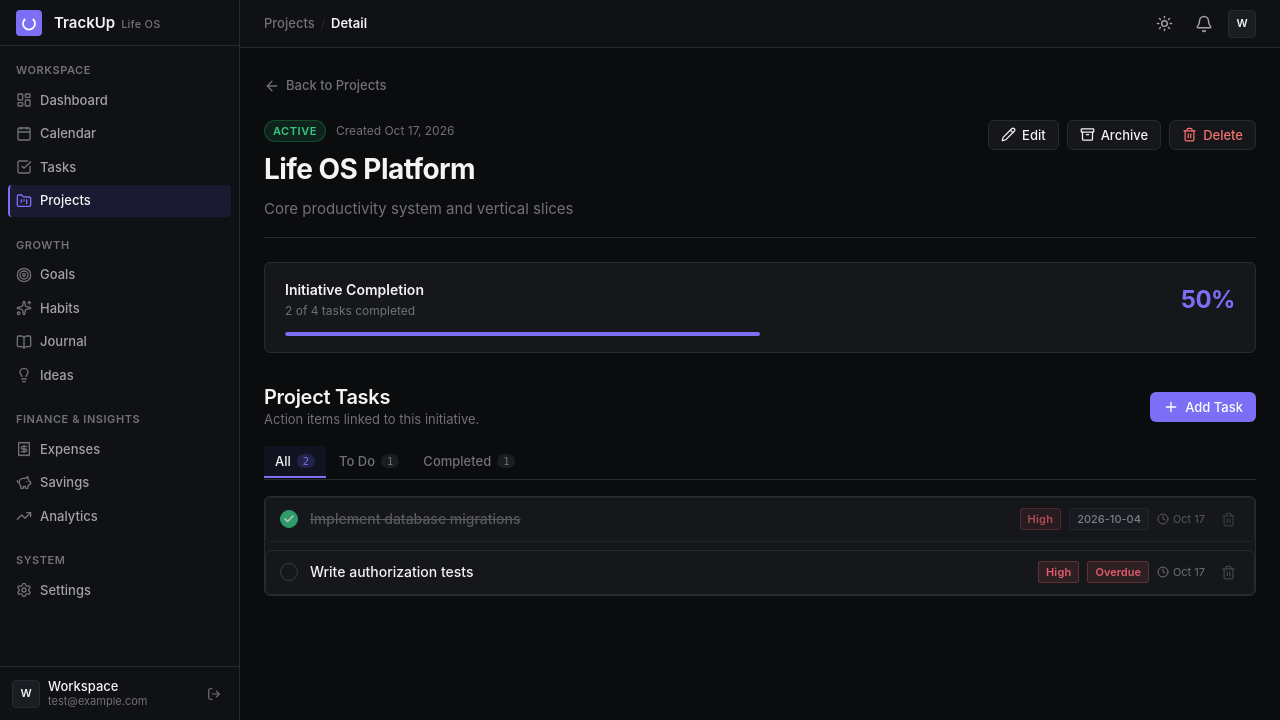
Scenario: Milestone 3: Projects Vertical Slice › Project Detail Page (/projects/:id) › renders project detail, tasks list, and allows archiving project
This screenshot has width=1280, height=720.
Expected: the heading "Life OS Platform" is shown, top-left (264, 152), bottom-right (475, 186)
Expected: the text "Core productivity system and vertical slices" is shown, top-left (264, 197), bottom-right (574, 221)
// Click Archive Project button
Click the button "Archive": (1114, 134) top-left (1067, 120), bottom-right (1161, 150)
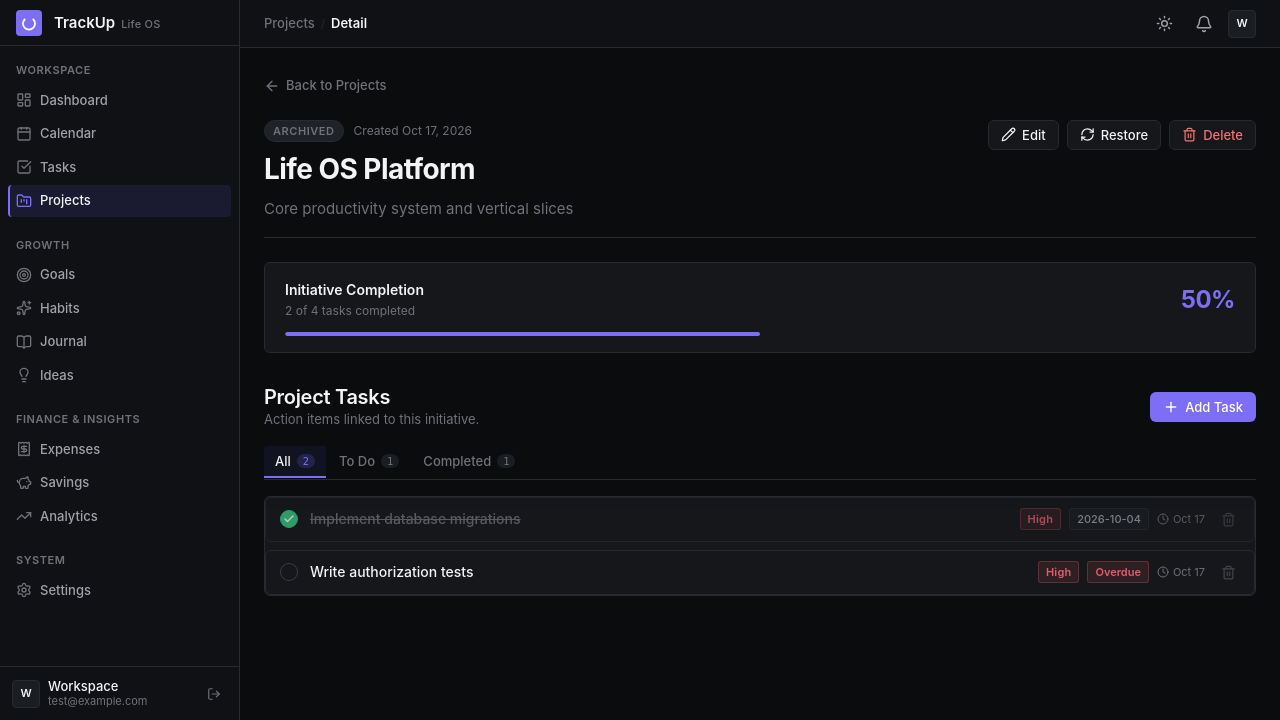
Result: the text "Archived" is shown at top-left (264, 120), bottom-right (344, 142)
